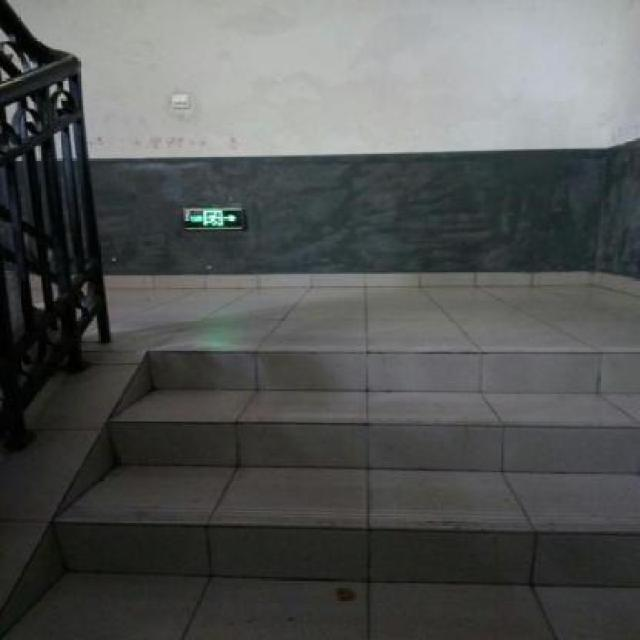exit_sign: (174, 197, 256, 235)
